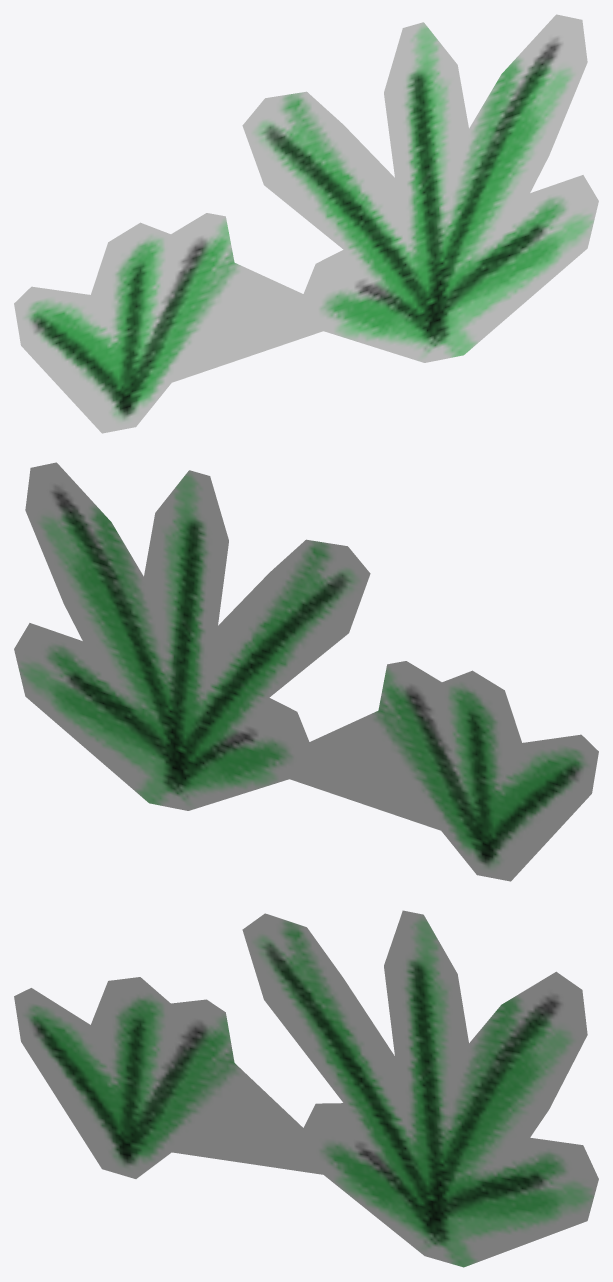
Rendered from Gras.fbx.
3 renders of one model, top to bottom at view 1: azimuth 30°, elevation 25°; view 2: azimuth 150°, elevation 25°; view 3: azimuth 330°, elevation 25°, orthographic.
Visible parts, largest first — view 1: gras; view 2: gras; view 3: gras.
Part boxes in pixels (x1,y1,x2,y2): gras: (14,14,598,433); gras: (14,462,598,881); gras: (14,910,598,1267).
Size of the model in its own units: 36.75 by 20.6 by 3.39e-06.
Materials: 1 (1 with a texture image).
